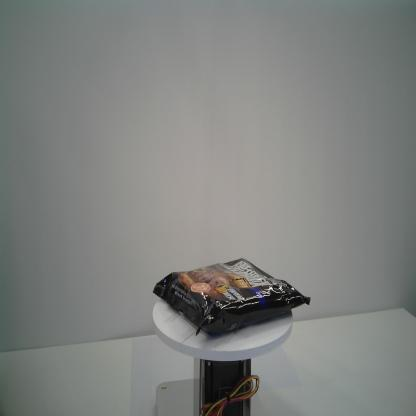Instant Noodles: (152, 258, 311, 336)
